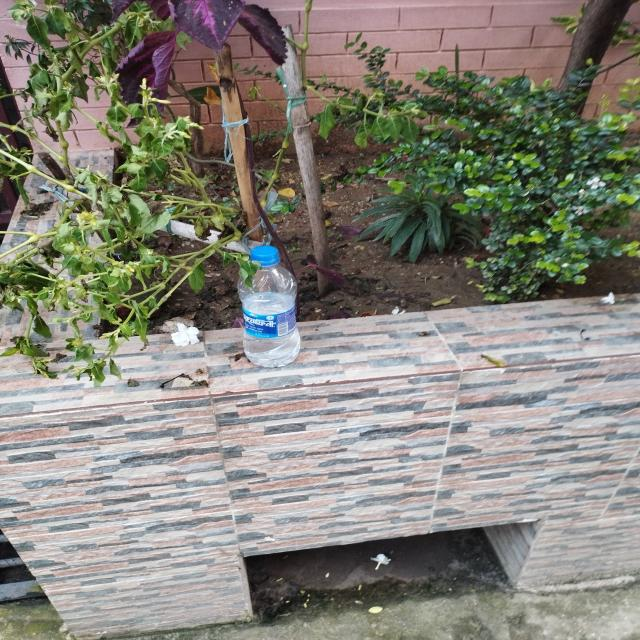plastic: (238, 245, 302, 370)
